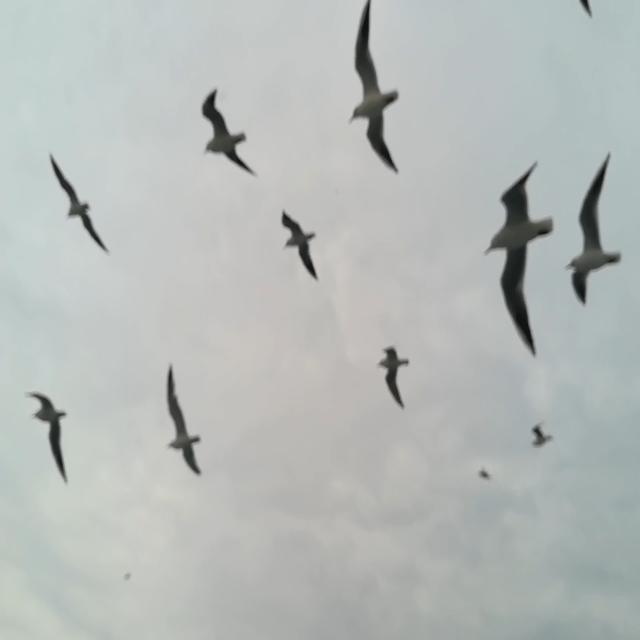bird: (484, 161, 554, 358), (564, 152, 624, 308), (349, 2, 402, 172), (48, 154, 112, 254), (200, 89, 257, 177), (162, 364, 203, 476), (26, 388, 70, 486), (280, 212, 318, 282), (378, 347, 411, 407), (531, 424, 555, 449), (575, 1, 594, 20), (477, 469, 492, 483), (121, 568, 133, 585)
